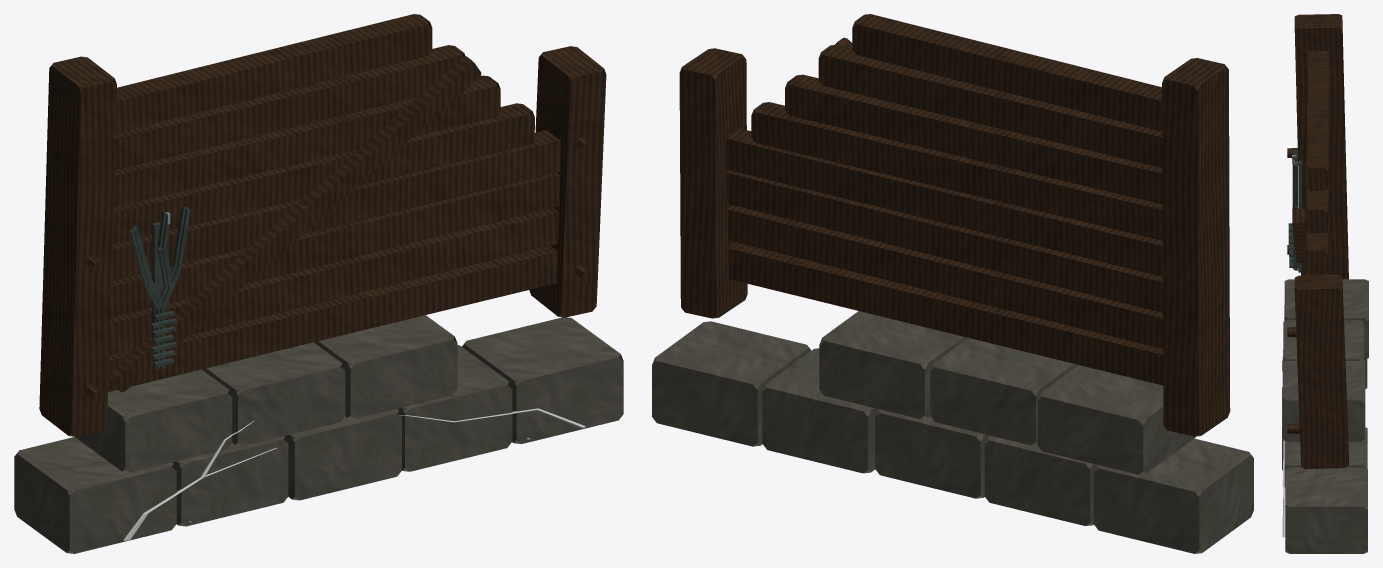
The model's file is cataclysm_rootvault_wall-lod2.gltf.
The picture shows the model from 3 angles, left to right: view 1: azimuth 30°, elevation 25°; view 2: azimuth 150°, elevation 25°; view 3: azimuth 270°, elevation 25°; orthographic projection. The views are drawn at different scales.
Visible parts, largest first — view 1: cataclysm_rootvault_wall LOD2 cataclysm_rootvault_wall, cataclysm_rootvault_wall LOD2 cataclysm_rootvault_wall roots; view 2: cataclysm_rootvault_wall LOD2 cataclysm_rootvault_wall; view 3: cataclysm_rootvault_wall LOD2 cataclysm_rootvault_wall, cataclysm_rootvault_wall LOD2 cataclysm_rootvault_wall roots.
Part boxes in pixels (<box>): cataclysm_rootvault_wall LOD2 cataclysm_rootvault_wall: <box>14,14,623,553</box>; cataclysm_rootvault_wall LOD2 cataclysm_rootvault_wall roots: <box>123,408,585,540</box>; cataclysm_rootvault_wall LOD2 cataclysm_rootvault_wall: <box>652,14,1253,553</box>; cataclysm_rootvault_wall LOD2 cataclysm_rootvault_wall: <box>1282,14,1368,553</box>; cataclysm_rootvault_wall LOD2 cataclysm_rootvault_wall roots: <box>1282,350,1285,537</box>.
Bounding box in the file's own units: 2.92 × 2.31 × 0.529.
